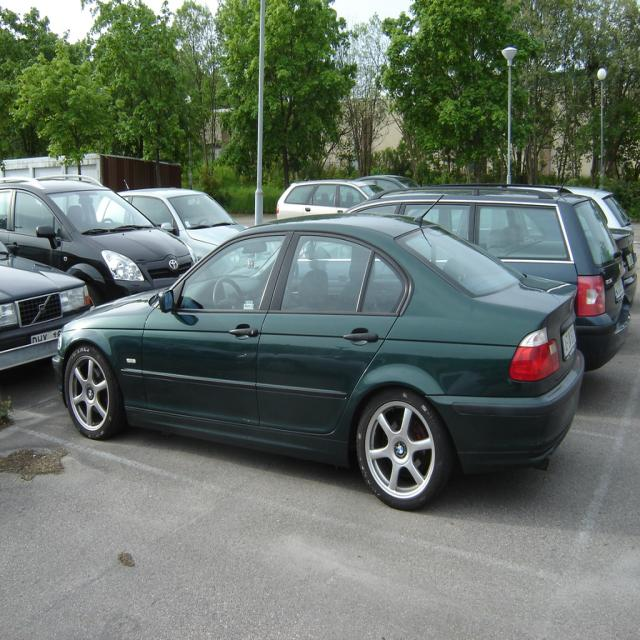car: (50, 183, 624, 512)
